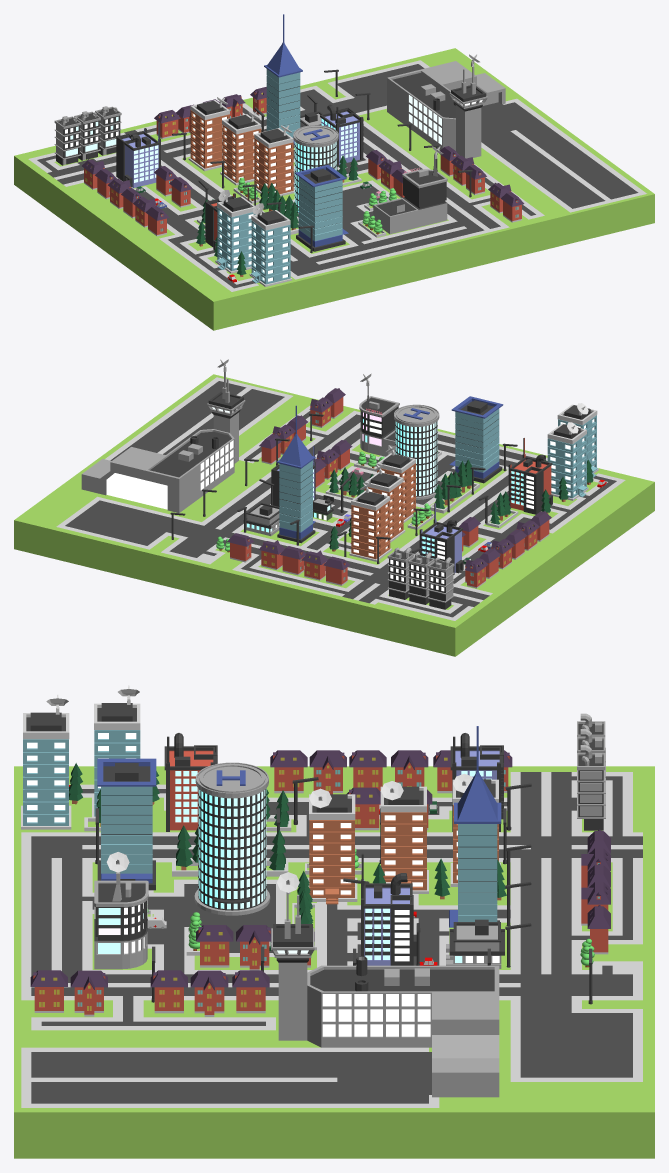
Rendered from City_17 (1).fbx.
The picture shows the model from 3 angles, top to bottom: view 1: azimuth 30°, elevation 25°; view 2: azimuth 150°, elevation 25°; view 3: azimuth 270°, elevation 25°; orthographic projection. The views are drawn at different scales.
Parts seen in each view (by area): view 1: Cylinder.012; view 2: Cylinder.012; view 3: Cylinder.012.
Part boxes in pixels (<box>): Cylinder.012: <box>14,14,654,330</box>; Cylinder.012: <box>14,359,654,656</box>; Cylinder.012: <box>14,685,654,1158</box>.
Bounding box in the file's own units: 10451 × 3581 × 8181.
